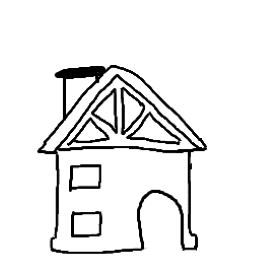bottom_placed_house: (3, 1, 260, 260)
chimney: (46, 64, 109, 123)
door: (129, 183, 199, 253)
open_window: (65, 206, 110, 240), (62, 162, 106, 195)
roof: (26, 55, 214, 158)
wall: (48, 135, 204, 256)
